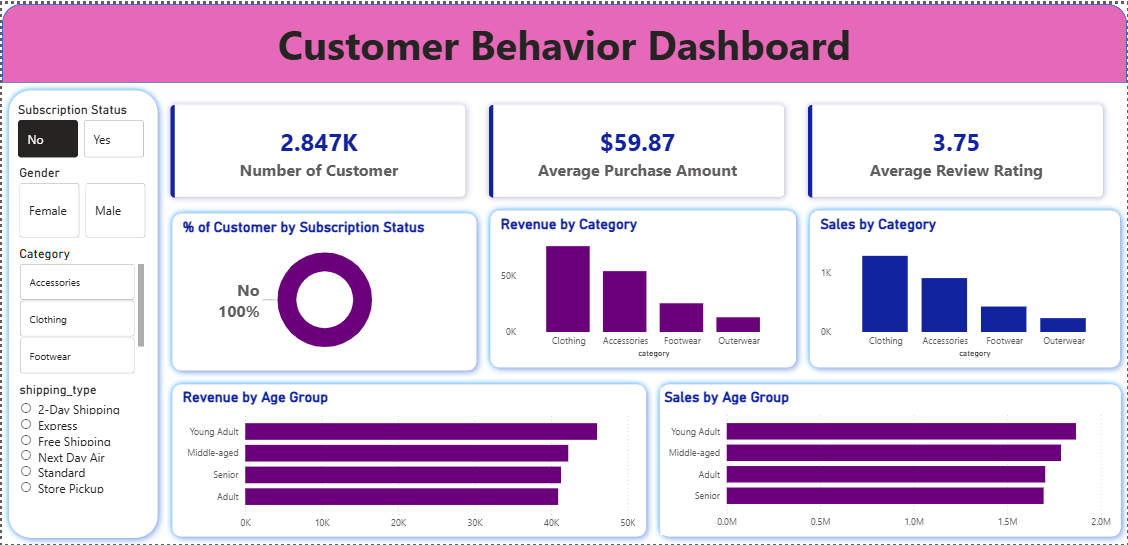

The page's visual inventory and layout, read from the dashboard file:
{"tool":"powerbi","page":{"name":"Page 1","canvas":[1500,720],"ordinal":0},"visuals":[{"type":"cardVisual","fields":{"Data":["public customer.Number of Customer","public customer.Average Purchase Amount","public customer.Average Review Rating"]},"box":[196.7,106.7,1303.3,180],"z":0},{"type":"shape","box":[0,0,1500,105],"z":1000},{"type":"textbox","box":[618,676,616,12],"z":2000},{"type":"shape","box":[1068,266,432,228],"z":2500},{"type":"textbox","box":[0,11.7,1500,93.3],"z":3000},{"type":"shape","box":[218,270,424,228],"z":3500},{"type":"shape","box":[642,266,426,228],"z":3750},{"type":"donutChart","title":"% of Customer by Subscription Status","fields":{"Category":["public customer.subscription_status"],"Y":["CountNonNull(public customer.customer_id)"]},"box":[236,286,388,194],"z":4000},{"type":"clusteredColumnChart","title":"Revenue by Category","fields":{"Y":["Sum(public customer.purchase_amount)"],"Category":["public customer.category"]},"box":[660,282,388,194],"z":5000},{"type":"clusteredColumnChart","title":"Sales by Category","fields":{"Category":["public customer.category"],"Y":["CountNonNull(public customer.customer_id)"]},"box":[1086,282,398,194],"z":6000},{"type":"shape","box":[0,105,216.7,615],"z":7000},{"type":"advancedSlicerVisual","title":"Subscription Status","fields":{"Values":["public customer.subscription_status"]},"box":[16.7,130,178.3,80],"z":8000},{"type":"advancedSlicerVisual","title":"Gender","fields":{"Values":["public customer.gender"]},"box":[17.2,213.9,178.3,103.3],"z":9000},{"type":"advancedSlicerVisual","title":"Category","fields":{"Values":["public customer.category"]},"box":[18.3,321.1,176.7,178.3],"z":10000},{"type":"listSlicer","fields":{"Values":["public customer.shipping_type"]},"box":[17.8,503.3,178.3,198.3],"z":11000},{"type":"shape","box":[217.1,498.6,650,221.4],"z":12000},{"type":"clusteredBarChart","title":"Revenue by Age Group","fields":{"Y":["Sum(public customer.purchase_amount)"],"Category":["public customer.age_group"]},"box":[235.7,512.9,612.9,197.1],"z":13000},{"type":"shape","box":[867.1,498.6,632.9,221.4],"z":14000},{"type":"clusteredBarChart","title":"Sales by Age Group","fields":{"Category":["public customer.age_group"],"Y":["Sum(public customer.customer_id)"]},"box":[878.6,511.4,605.7,195.7],"z":15000}]}

Visuals, with their boxes in screenshot pixels (x1, y1, x2, y2), scaled from the page's 1500x720 canvas onto the 1128x545 screenshot:
cardVisual - public customer.Number of Customer x public customer.Average Purchase Amount: rect(148, 81, 1127, 217)
shape: rect(0, 0, 1127, 79)
textbox: rect(465, 512, 928, 521)
shape: rect(803, 201, 1127, 374)
textbox: rect(0, 9, 1127, 79)
shape: rect(164, 204, 483, 377)
shape: rect(483, 201, 803, 374)
"% of Customer by Subscription Status" donutChart: rect(177, 216, 469, 363)
"Revenue by Category" clusteredColumnChart: rect(496, 213, 788, 360)
"Sales by Category" clusteredColumnChart: rect(817, 213, 1116, 360)
shape: rect(0, 79, 163, 544)
"Subscription Status" advancedSlicerVisual: rect(13, 98, 147, 159)
"Gender" advancedSlicerVisual: rect(13, 162, 147, 240)
"Category" advancedSlicerVisual: rect(14, 243, 147, 378)
listSlicer - public customer.shipping_type: rect(13, 381, 147, 531)
shape: rect(163, 377, 652, 544)
"Revenue by Age Group" clusteredBarChart: rect(177, 388, 638, 537)
shape: rect(652, 377, 1127, 544)
"Sales by Age Group" clusteredBarChart: rect(661, 387, 1116, 535)
